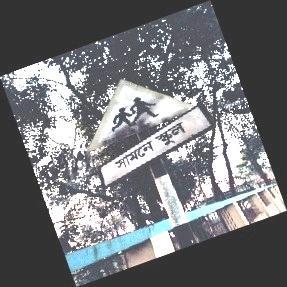School-in-front: (80, 72, 210, 188)
